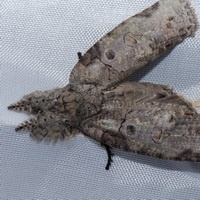insect: (8, 0, 199, 168)
